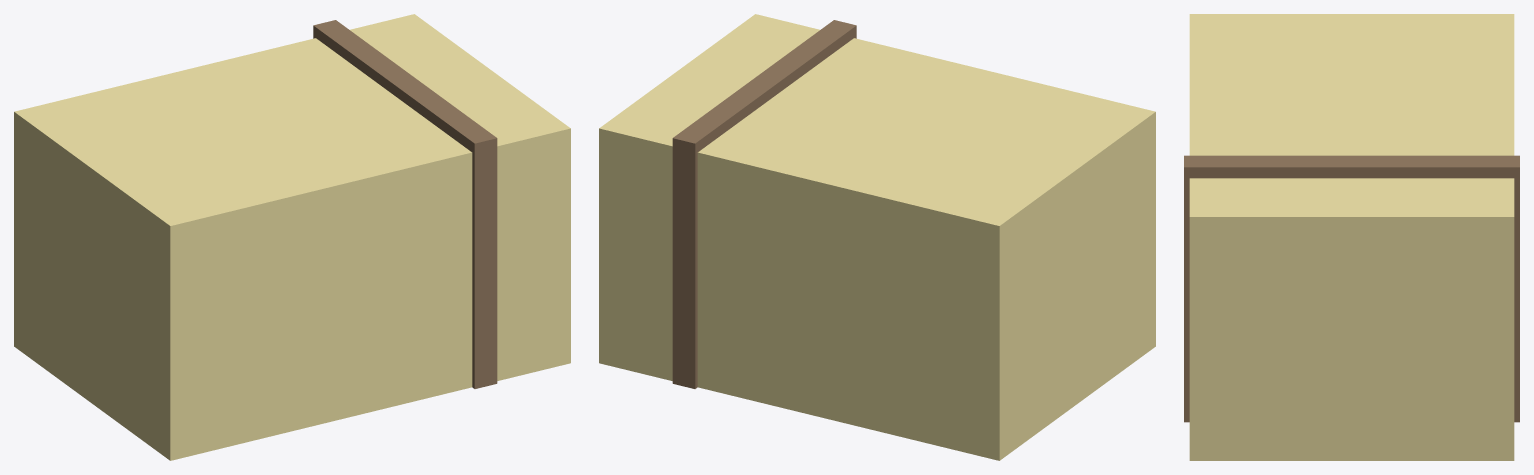
Rendered from Prop_Live_AMF_HayBale_V9.glb.
The picture shows the model from 3 angles, left to right: view 1: azimuth 30°, elevation 25°; view 2: azimuth 150°, elevation 25°; view 3: azimuth 270°, elevation 25°; orthographic projection. The views are drawn at different scales.
Parts seen in each view (by area): view 1: Prop_Live_AMF_HayBale_V9; view 2: Prop_Live_AMF_HayBale_V9; view 3: Prop_Live_AMF_HayBale_V9.
Boxes of the visible parts, x1=… form: Prop_Live_AMF_HayBale_V9: x1=14, y1=14, x2=570, y2=460; Prop_Live_AMF_HayBale_V9: x1=599, y1=14, x2=1155, y2=460; Prop_Live_AMF_HayBale_V9: x1=1184, y1=14, x2=1519, y2=460.
Bounding box in the file's own units: 0.8872 × 0.52 × 0.62.
